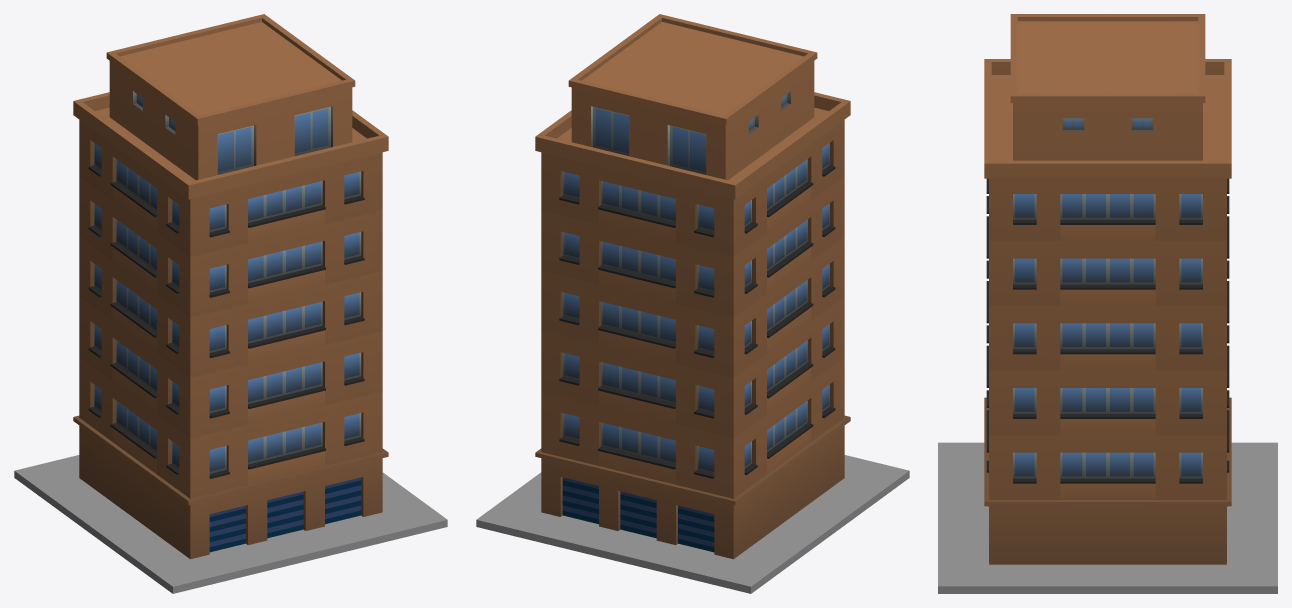
Rendered from cbgt_free_v0.4.0_house_building_07a_v1.0.0.glb.
3 renders of one model, left to right at view 1: azimuth 30°, elevation 25°; view 2: azimuth 150°, elevation 25°; view 3: azimuth 270°, elevation 25°, orthographic. The views are drawn at different scales.
Visible parts, largest first — view 1: cbgt_free_v0.4.0_house_building_07a_v1.0.0, cbgt_free_v0.4.0_ground_pavement_2x2__v1.0.001; view 2: cbgt_free_v0.4.0_house_building_07a_v1.0.0, cbgt_free_v0.4.0_ground_pavement_2x2__v1.0.001; view 3: cbgt_free_v0.4.0_house_building_07a_v1.0.0, cbgt_free_v0.4.0_ground_pavement_2x2__v1.0.001.
Boxes of the visible parts, <box> form: cbgt_free_v0.4.0_house_building_07a_v1.0.0: <box>73,14,388,559</box>; cbgt_free_v0.4.0_ground_pavement_2x2__v1.0.001: <box>14,455,447,593</box>; cbgt_free_v0.4.0_house_building_07a_v1.0.0: <box>535,14,850,559</box>; cbgt_free_v0.4.0_ground_pavement_2x2__v1.0.001: <box>476,455,909,593</box>; cbgt_free_v0.4.0_house_building_07a_v1.0.0: <box>984,14,1231,564</box>; cbgt_free_v0.4.0_ground_pavement_2x2__v1.0.001: <box>938,442,1277,593</box>.
Size of the model in its own units: 20 by 30.32 by 20.
Materials: 1 (1 with a texture image).
